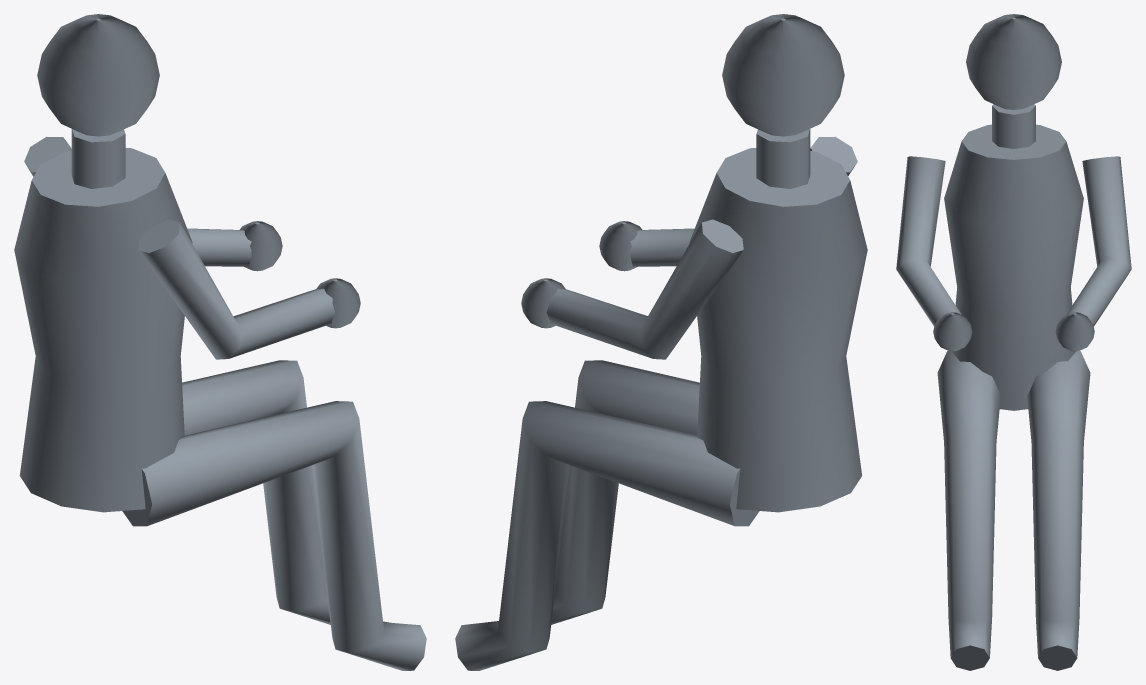
Rendered from stand-in.glb.
3 views of the same model, side by side, from view 1: azimuth 30°, elevation 25°; view 2: azimuth 150°, elevation 25°; view 3: azimuth 270°, elevation 25° (orthographic). The views are drawn at different scales.
Parts seen in each view (by area): view 1: body, arm-right, head, arm-left; view 2: body, arm-left, head, arm-right; view 3: body, arm-left, arm-right, head.
Part boxes in pixels (bbox=[...]): body: bbox=[14, 129, 426, 670]; arm-right: bbox=[138, 219, 360, 359]; head: bbox=[37, 14, 159, 136]; arm-left: bbox=[24, 136, 282, 271]; body: bbox=[455, 129, 867, 670]; arm-left: bbox=[521, 219, 743, 359]; head: bbox=[722, 14, 844, 136]; arm-right: bbox=[599, 136, 857, 271]; body: bbox=[937, 104, 1090, 670]; arm-left: bbox=[1055, 156, 1131, 351]; arm-right: bbox=[896, 156, 972, 351]; head: bbox=[966, 14, 1061, 109].
Size of the model in its own units: 0.7584 by 1.38 by 0.539.
